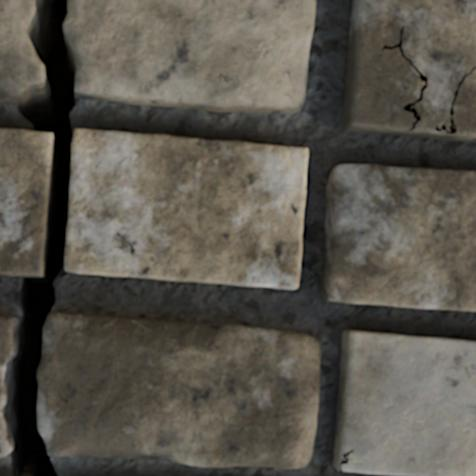brick: (65, 129, 307, 288), (321, 165, 475, 311), (333, 331, 475, 475), (343, 0, 475, 141), (0, 128, 53, 275)
broken_brick: (38, 310, 321, 469), (64, 0, 316, 114), (0, 0, 43, 102), (0, 312, 18, 458)
crack: (1, 0, 79, 475), (435, 66, 475, 134), (338, 449, 354, 471)
